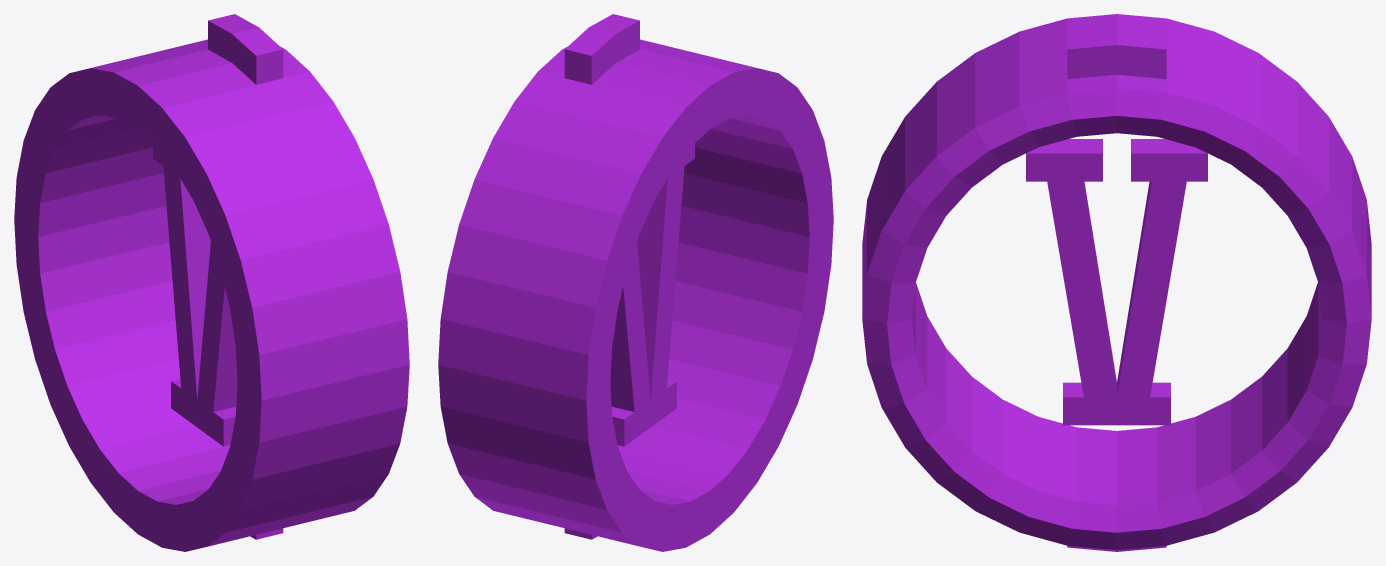
The picture shows the model from 3 angles, left to right: view 1: azimuth 30°, elevation 25°; view 2: azimuth 150°, elevation 25°; view 3: azimuth 270°, elevation 25°; orthographic projection. The views are drawn at different scales.
Parts seen in each view (by area): view 1: 円柱, 1.001; view 2: 円柱, 1.001; view 3: 円柱, 1.001.
Part boxes in pixels (x1,y1,x2,y2): 円柱: (14,14,409,551); 1.001: (153,143,237,446); 円柱: (438,14,833,551); 1.001: (610,143,694,446); 円柱: (862,14,1371,551); 1.001: (1026,139,1207,425).
Size of the model in its own units: 144 by 430 by 392.
